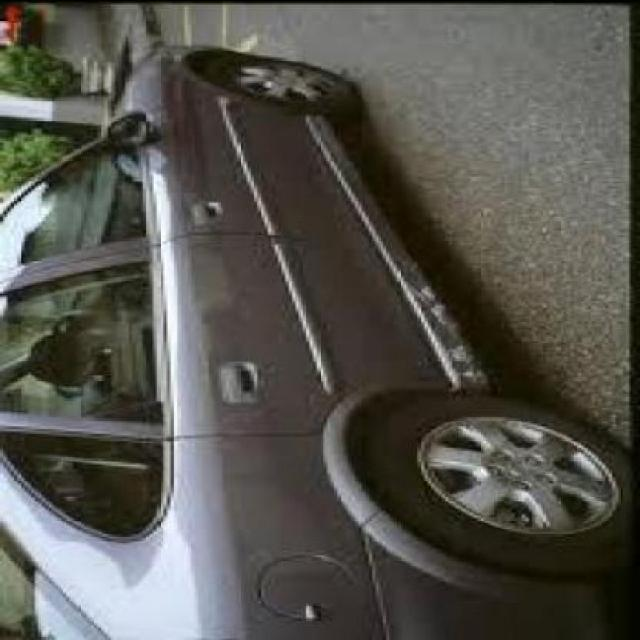damage: (404, 273, 490, 381)
